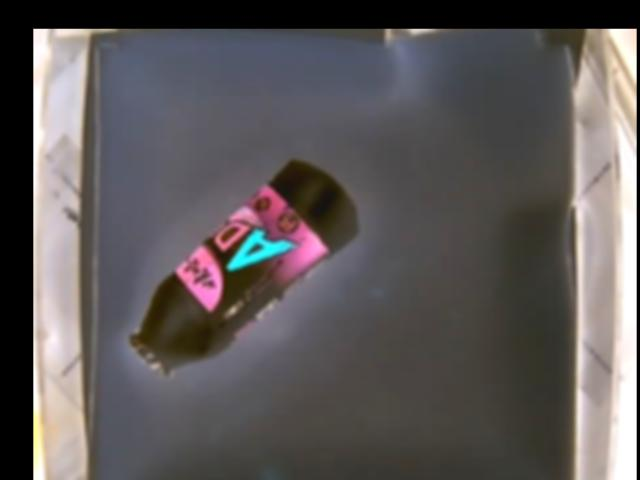Bottle: (125, 162, 357, 379)
